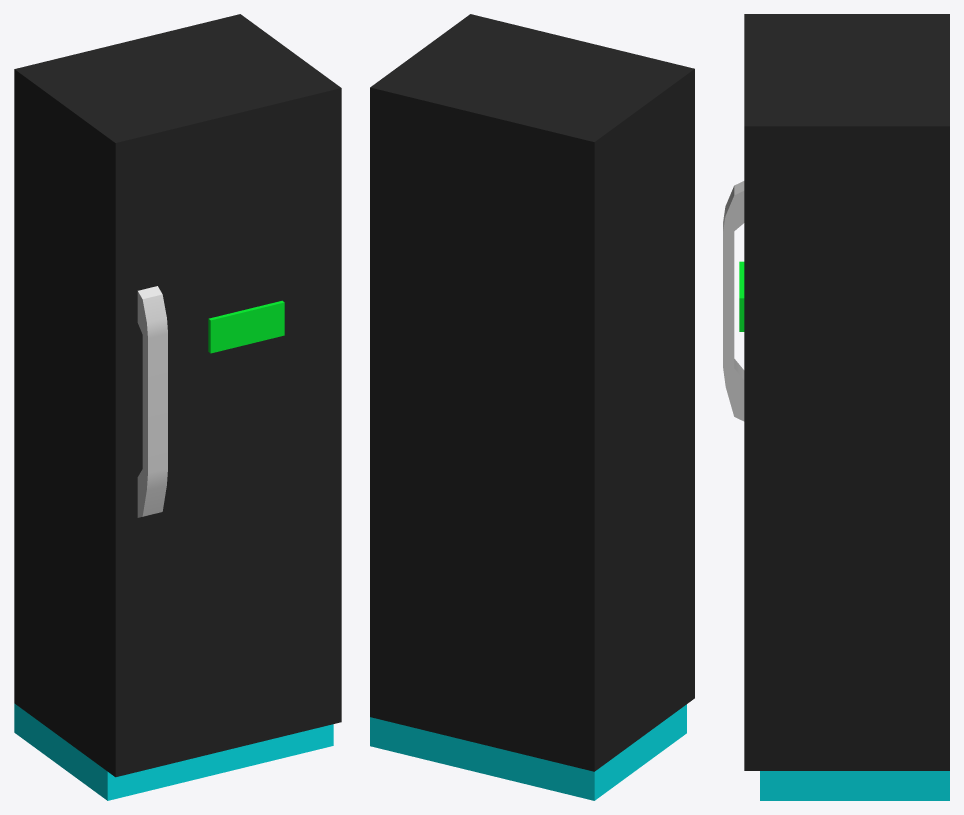
File: fridge.fbx
3 views of the same model, side by side, from view 1: azimuth 30°, elevation 25°; view 2: azimuth 150°, elevation 25°; view 3: azimuth 270°, elevation 25° (orthographic). The views are drawn at different scales.
Parts seen in each view (by area): view 1: door, fridge, base, handle, screen; view 2: fridge, base, door; view 3: fridge, door, base, handle, screen.
Part boxes in pixels (x1=…): door: x1=107, y1=82, x2=341, y2=777; fridge: x1=14, y1=14, x2=333, y2=771; base: x1=14, y1=703, x2=333, y2=800; handle: x1=137, y1=286, x2=167, y2=517; screen: x1=208, y1=300, x2=284, y2=353; fridge: x1=370, y1=20, x2=686, y2=771; base: x1=370, y1=704, x2=686, y2=800; door: x1=463, y1=14, x2=694, y2=703; fridge: x1=760, y1=14, x2=949, y2=770; door: x1=744, y1=14, x2=759, y2=770; base: x1=760, y1=771, x2=949, y2=800; handle: x1=723, y1=181, x2=744, y2=421; screen: x1=739, y1=261, x2=744, y2=331.
Size of the model in its own units: 0.7129 by 2 by 0.6088.
